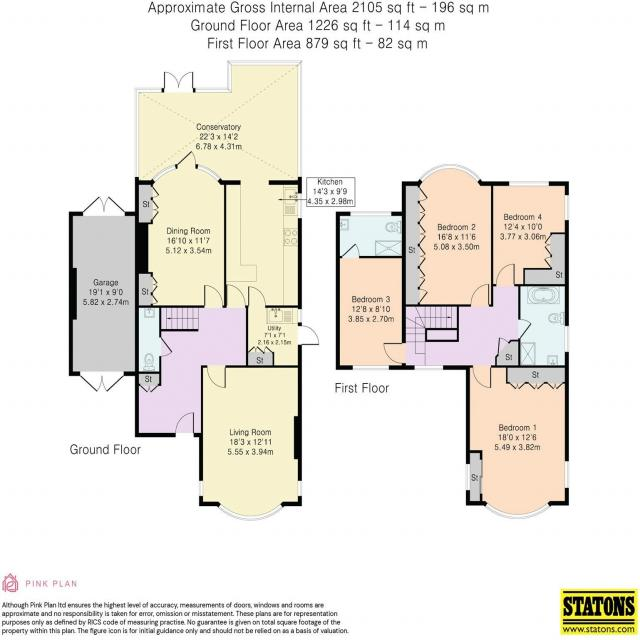DOOR: (174, 412, 195, 437), (383, 342, 406, 364), (225, 284, 246, 308), (472, 365, 492, 389), (206, 365, 226, 389), (495, 263, 515, 286), (204, 284, 223, 308), (298, 325, 319, 346), (470, 284, 490, 306), (248, 286, 266, 308), (177, 150, 196, 169), (159, 336, 173, 357), (518, 319, 532, 339), (342, 243, 360, 258)
ROOM: (199, 365, 302, 521), (466, 365, 569, 520), (135, 150, 227, 308), (401, 164, 493, 307), (224, 180, 302, 308), (336, 243, 406, 370), (491, 181, 569, 286)
WINDOW: (484, 502, 551, 520), (218, 503, 284, 521), (419, 164, 481, 183), (151, 164, 177, 183), (197, 164, 221, 183), (508, 181, 550, 187), (350, 211, 392, 217), (352, 365, 390, 370), (564, 194, 570, 221), (414, 365, 444, 370), (465, 463, 470, 491), (564, 325, 569, 353), (564, 461, 569, 488), (297, 192, 302, 219), (198, 480, 204, 497), (297, 480, 302, 497), (297, 308, 302, 323)
